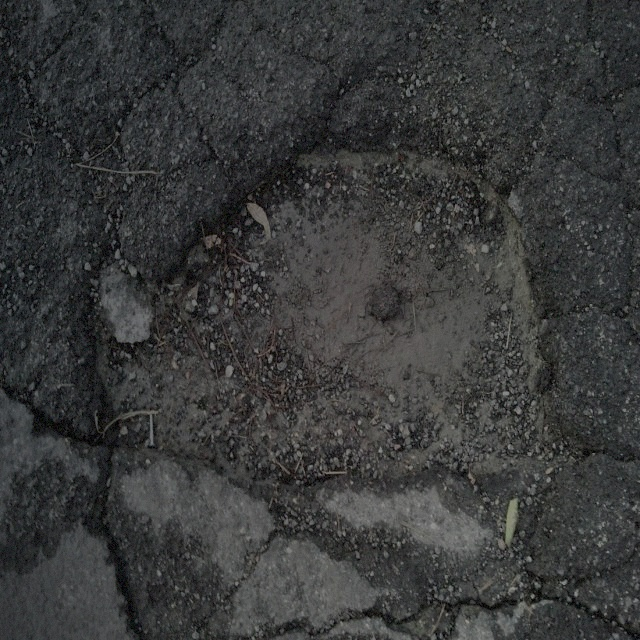pothole: (90, 128, 568, 512)
